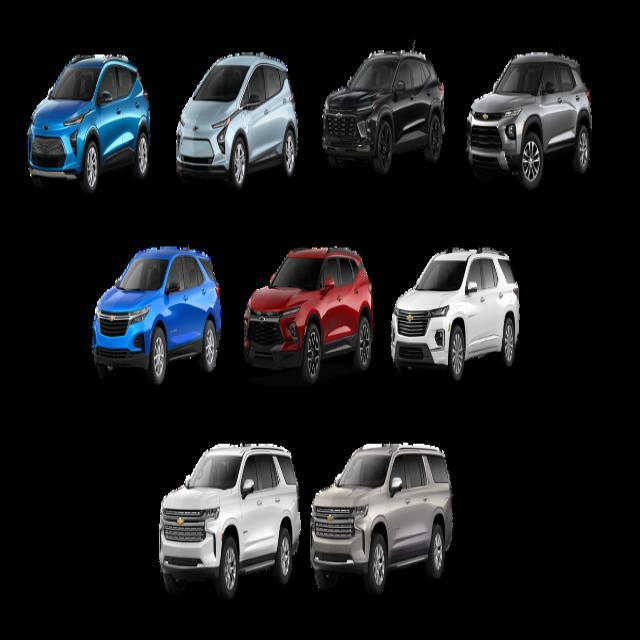sedan: (158, 440, 301, 600), (308, 440, 454, 596), (90, 248, 222, 386), (242, 245, 374, 382), (390, 245, 520, 381), (466, 50, 592, 190), (28, 51, 151, 194), (175, 50, 298, 189), (322, 42, 444, 176)
